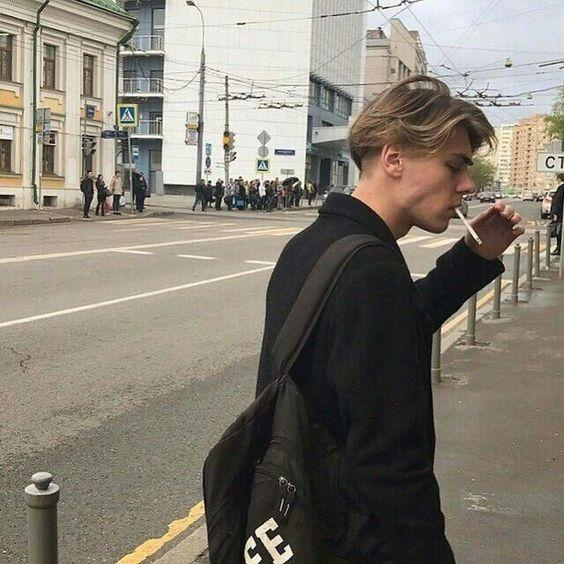cigarette: (454, 206, 482, 246)
